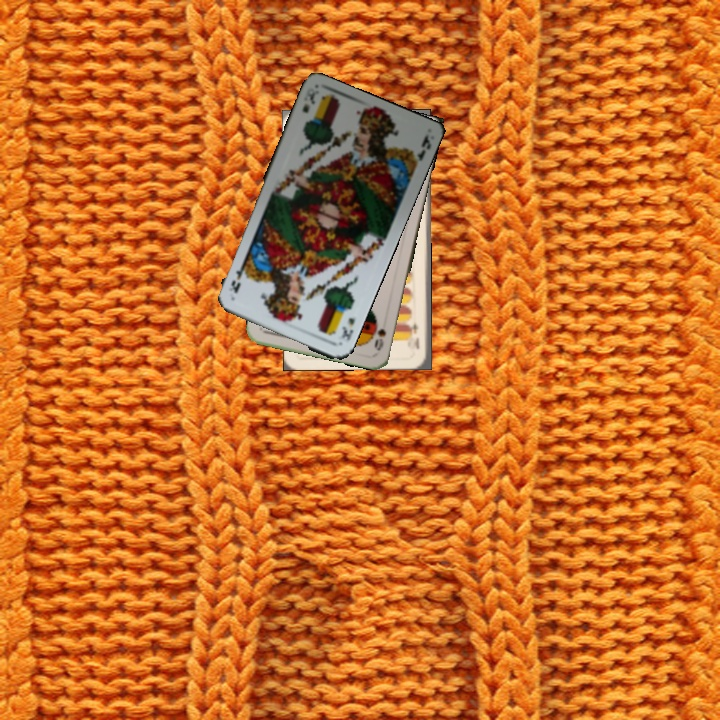E10: (407, 317, 422, 351)
EK: (298, 85, 318, 116), (338, 314, 357, 344)
SO: (370, 318, 389, 353)
